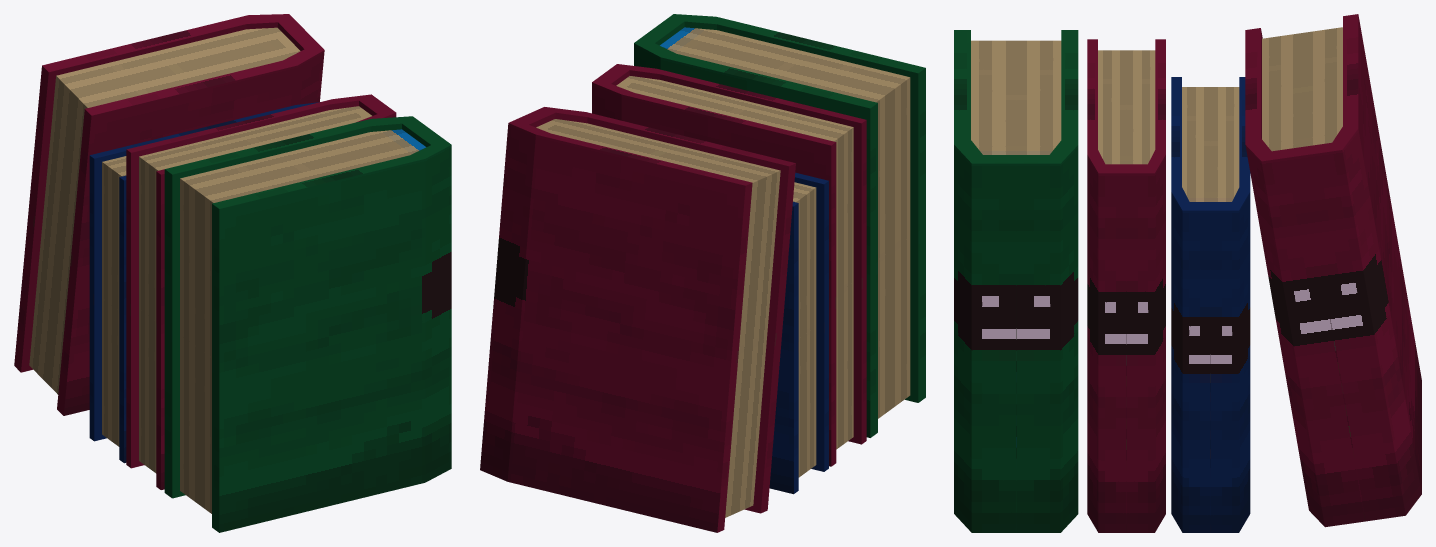
File: E_Books.3.fbx
3 views of the same model, side by side, from view 1: azimuth 30°, elevation 25°; view 2: azimuth 150°, elevation 25°; view 3: azimuth 270°, elevation 25° (orthographic). The views are drawn at different scales.
Parts seen in each view (by area): view 1: Cube.008; view 2: Cube.008; view 3: Cube.008.
Boxes of the visible parts, x1=… form: Cube.008: x1=14, y1=14, x2=451, y2=532; Cube.008: x1=480, y1=14, x2=925, y2=532; Cube.008: x1=954, y1=14, x2=1421, y2=532.
Bounding box in the file's own units: 37.83 × 50.82 × 55.92.
